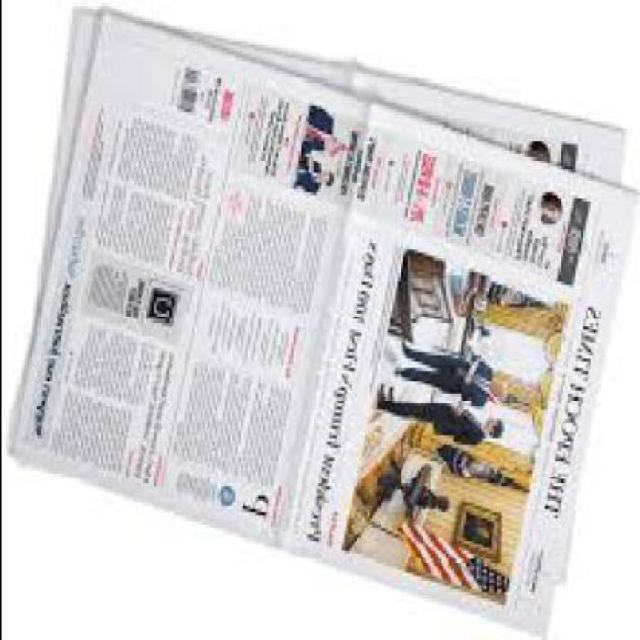PAPER: (12, 12, 638, 638), (12, 16, 628, 589)
